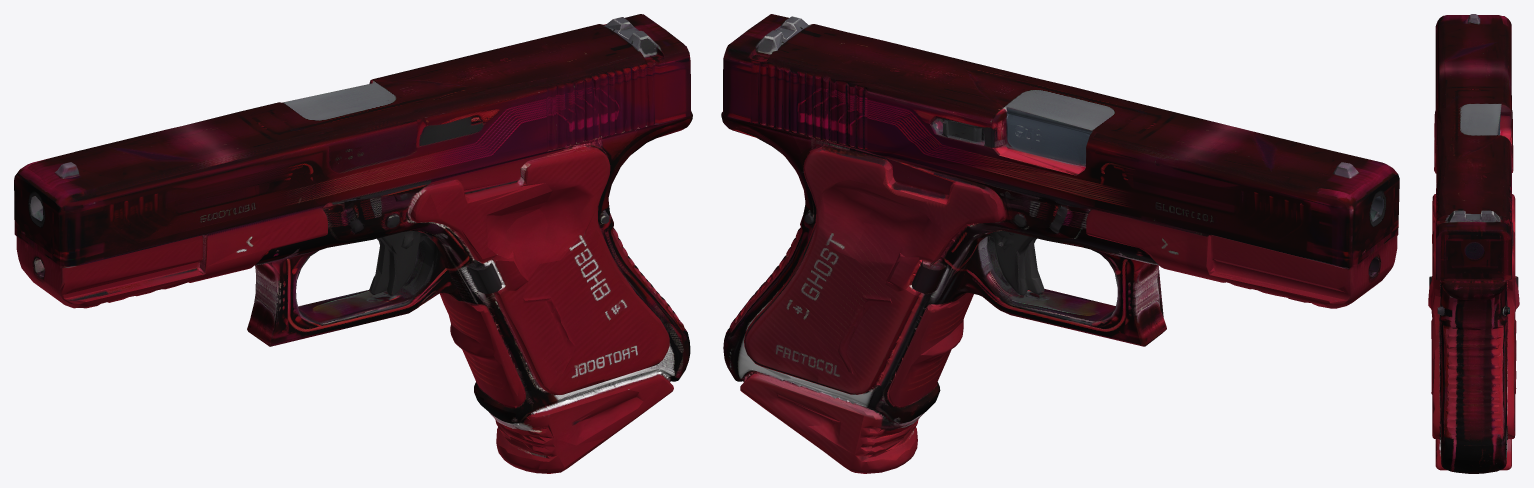
The model's file is meshy-cup.glb.
3 renders of one model, left to right at view 1: azimuth 30°, elevation 25°; view 2: azimuth 150°, elevation 25°; view 3: azimuth 270°, elevation 25°, orthographic. The views are drawn at different scales.
Size of the model in its own units: 1.9 by 1.15 by 0.3262.
Materials: 1 (1 with a texture image).
